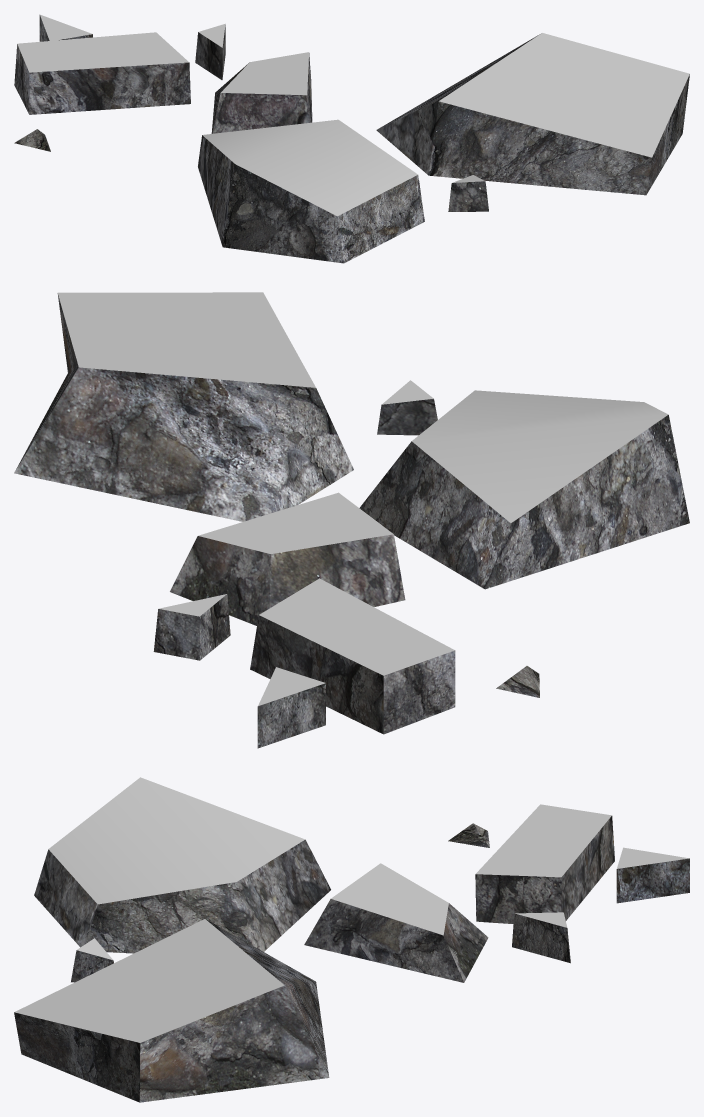
Rendered from Debris_small3_LOD1.fbx.
3 views of the same model, one above another, from view 1: azimuth 30°, elevation 25°; view 2: azimuth 150°, elevation 25°; view 3: azimuth 270°, elevation 25° (orthographic). The views are drawn at different scales.
Parts seen in each view (by area): view 1: polySurface82; view 2: polySurface82; view 3: polySurface82.
Boxes of the visible parts, x1,y1,x2,y2 form: polySurface82: (14, 14, 689, 263); polySurface82: (14, 292, 689, 748); polySurface82: (14, 777, 689, 1102).
Bounding box in the file's own units: 2.37 × 0.3488 × 2.45.
